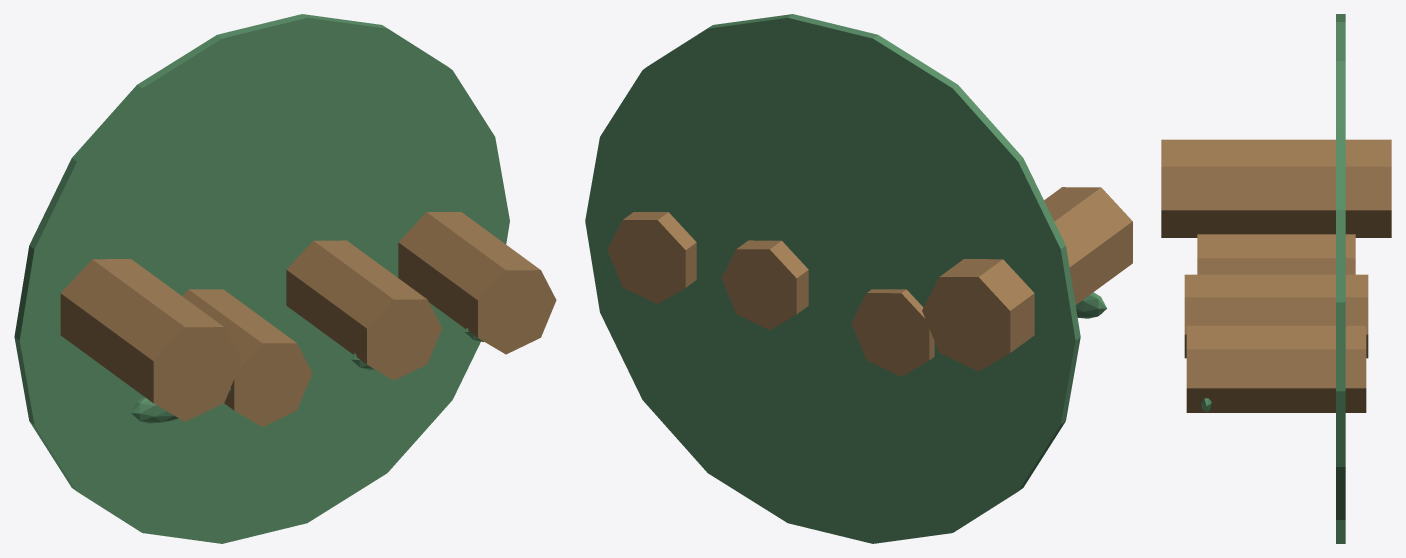
Rendered from 02_local_prop_cluster.glb.
3 renders of one model, left to right at view 1: azimuth 30°, elevation 25°; view 2: azimuth 150°, elevation 25°; view 3: azimuth 270°, elevation 25°, orthographic. The views are drawn at different scales.
Visible parts, largest first — view 1: scatter_base, root_stump_0, root_stump_3, root_stump_2, root_stump_1, moss_0; view 2: scatter_base, root_stump_0, root_stump_3, root_stump_2, root_stump_1; view 3: root_stump_0, root_stump_3, root_stump_2, root_stump_1, scatter_base.
Part boxes in pixels (x1,y1,x2,y2): scatter_base: [14, 14, 509, 543]; root_stump_0: [60, 259, 241, 421]; root_stump_3: [398, 212, 556, 354]; root_stump_2: [286, 240, 442, 380]; root_stump_1: [182, 289, 312, 426]; moss_0: [131, 397, 178, 423]; scatter_base: [585, 14, 1080, 543]; root_stump_0: [922, 187, 1132, 371]; root_stump_3: [607, 212, 696, 304]; root_stump_2: [721, 240, 808, 330]; root_stump_1: [851, 289, 934, 376]; root_stump_0: [1161, 139, 1391, 237]; root_stump_3: [1186, 325, 1366, 412]; root_stump_2: [1184, 274, 1368, 358]; root_stump_1: [1197, 234, 1355, 274]; scatter_base: [1336, 14, 1345, 543].
Size of the model in its own units: 1.9 by 1.87 by 0.8231.
